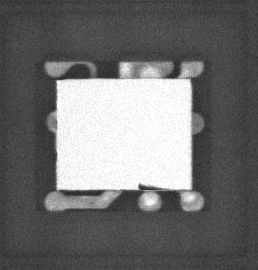DIE_BROKEN: (135, 180, 172, 191)
